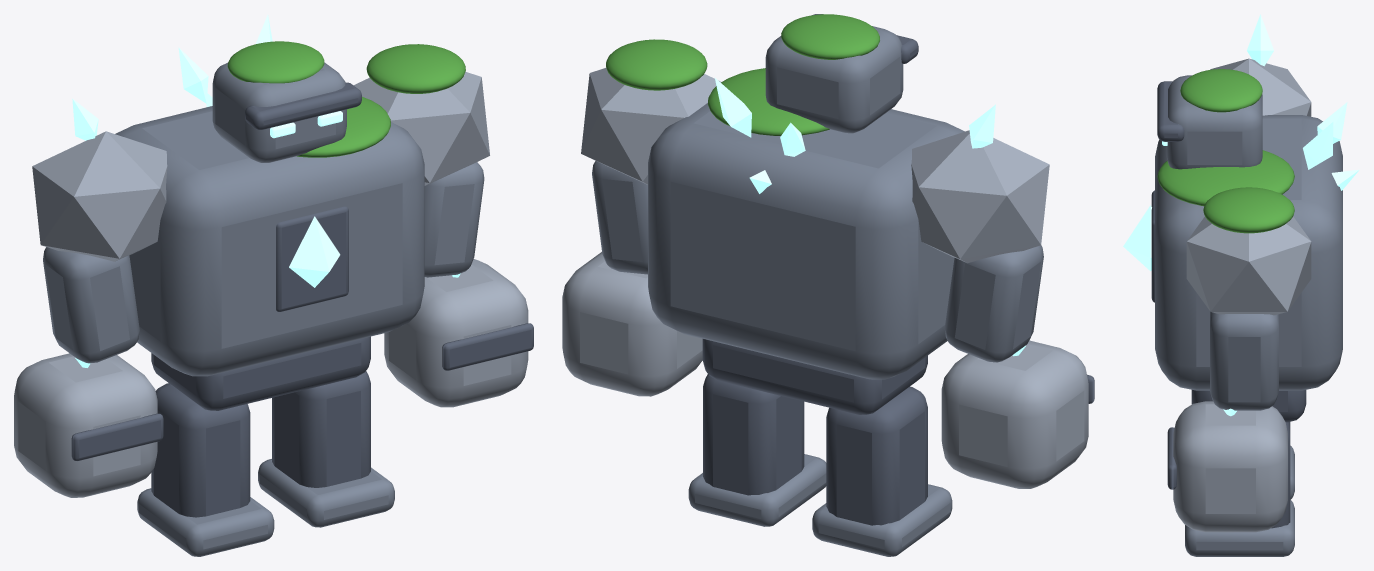
File: CrystalGolem.fbx
3 views of the same model, side by side, from view 1: azimuth 30°, elevation 25°; view 2: azimuth 150°, elevation 25°; view 3: azimuth 270°, elevation 25° (orthographic). The views are drawn at different scales.
Parts seen in each view (by area): view 1: Body, Arm_R, Arm_L, Leg_R, Leg_L, Head; view 2: Body, Arm_R, Arm_L, Leg_R, Leg_L, Head; view 3: Body, Arm_L, Head, Leg_L.
Part boxes in pixels (x1,y1,x2,y2): Body: (32,14,489,410); Arm_R: (14,247,163,497); Arm_L: (384,162,533,407); Leg_R: (137,383,274,556); Leg_L: (258,371,394,527); Head: (212,41,361,162); Body: (581,39,1049,414); Arm_R: (941,245,1094,488); Arm_L: (562,161,702,396); Leg_R: (812,386,952,556); Leg_L: (688,374,826,526); Head: (765,14,918,133); Body: (1123,14,1359,422); Arm_L: (1167,311,1287,532); Head: (1157,69,1262,169); Leg_L: (1185,422,1294,556).
Size of the model in its own units: 2.22 by 2.09 by 1.03.
